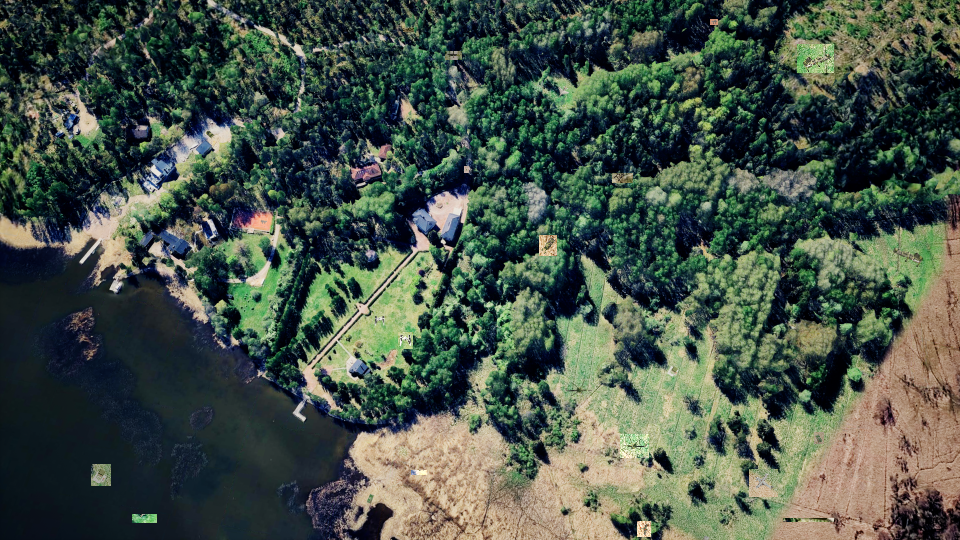condor: (749, 469, 778, 497)
hangar: (783, 518, 834, 522)
helicopter: (620, 434, 649, 458)
jammer: (814, 432, 824, 444)
jet_plane: (132, 514, 157, 523)
large_launcher: (797, 44, 834, 73)
large_tower: (612, 173, 633, 183)
medium_launcher: (403, 28, 414, 32)
medium_plane: (445, 51, 462, 60)
mine_roller: (539, 235, 557, 256)
small_launcher: (464, 166, 469, 173)
small_plane: (637, 521, 651, 537)
small_tower: (91, 464, 111, 486)
spacecraft: (398, 332, 413, 349)
ta-ta: (710, 19, 718, 25)
tank: (411, 470, 427, 475)
